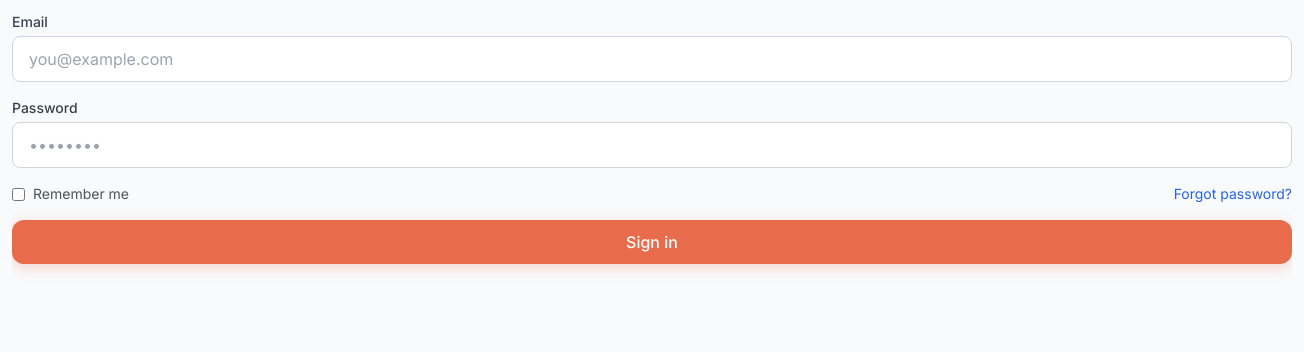
Test: LoginForm › shows "Incorrect email or password" on Invalid login error
The image size is (1304, 352).
Type "wrong@example.com" into the field with placeholder "you@example.com" at (652, 59), box [12,36,1292,82]
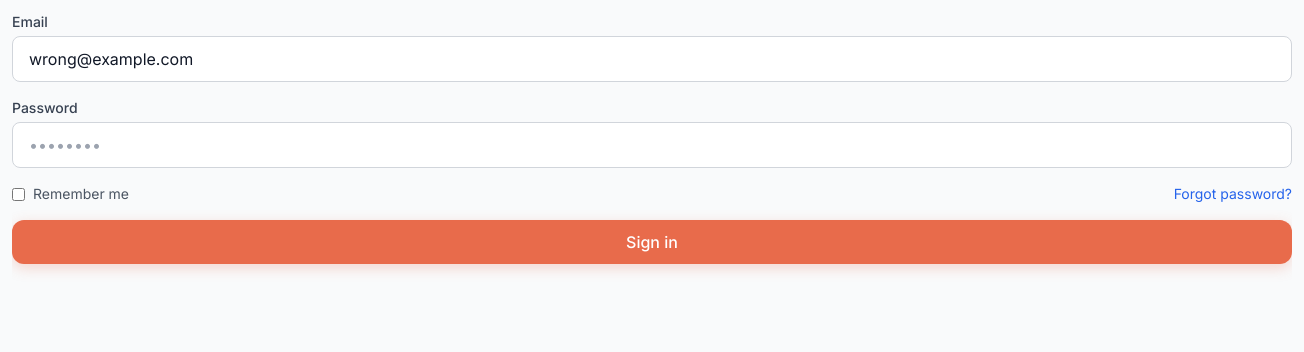
Type "badpassword" into the password field with placeholder "••••••••" at (652, 145), box [12,122,1292,168]
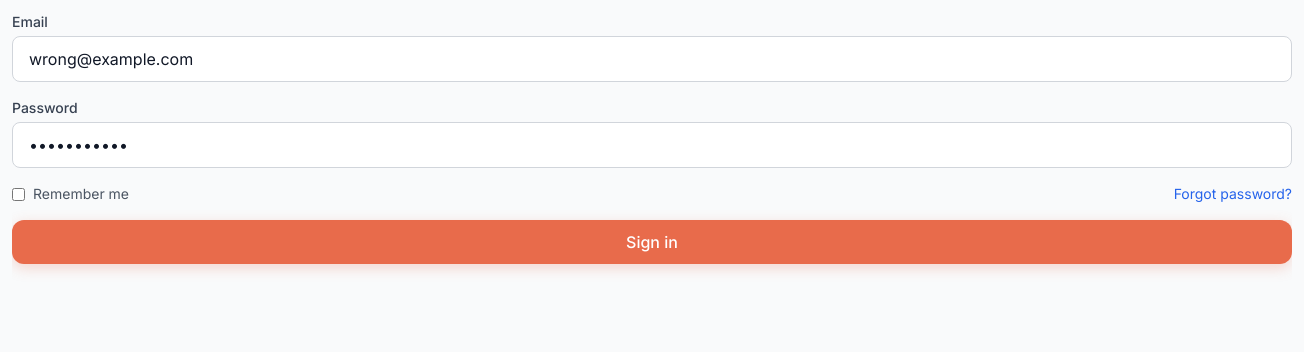
Submit the form from the button "Sign in", box [12,220,1292,264]
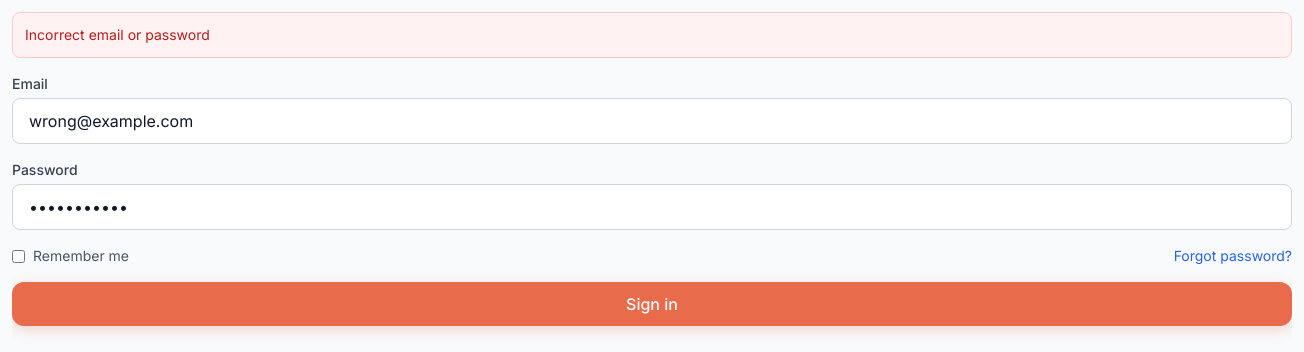
Expected: the text "Incorrect email or password" is shown, [12,12,1292,58]
